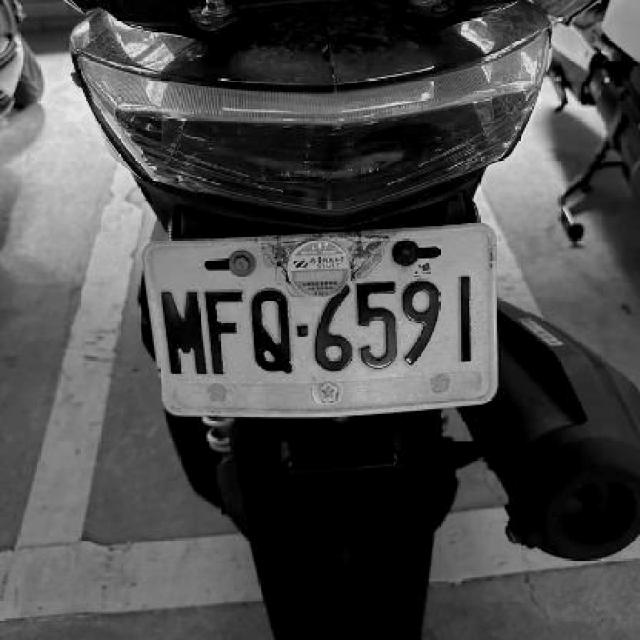-: (295, 323, 311, 339)
1: (454, 274, 471, 366)
5: (352, 277, 400, 368)
6: (308, 278, 354, 371)
9: (395, 274, 443, 363)
F: (201, 285, 247, 377)
M: (160, 285, 207, 374)
Q: (249, 284, 294, 374)
